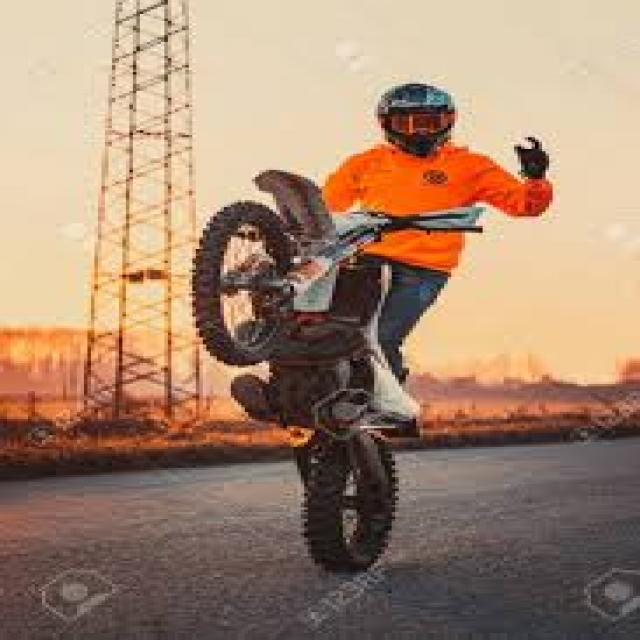Wheeling: (196, 91, 549, 587)
